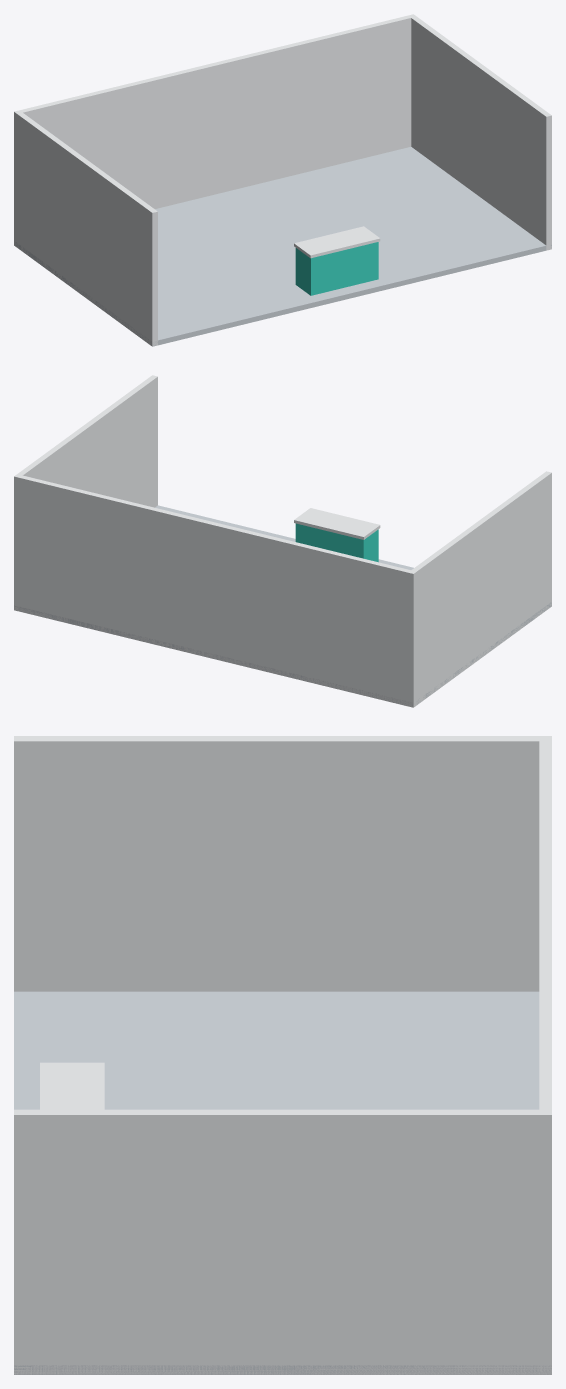
The picture shows the model from 3 angles, top to bottom: view 1: azimuth 30°, elevation 25°; view 2: azimuth 150°, elevation 25°; view 3: azimuth 270°, elevation 25°; orthographic projection. The views are drawn at different scales.
Visible parts, largest first — view 1: Exhibition Booth Concept; view 2: Exhibition Booth Concept; view 3: Exhibition Booth Concept.
Boxes of the visible parts, x1,y1,x2,y2 form: Exhibition Booth Concept: (14, 14, 551, 346); Exhibition Booth Concept: (14, 375, 551, 707); Exhibition Booth Concept: (14, 736, 551, 1374).
Size of the model in its own units: 10 by 3.2 by 6.
